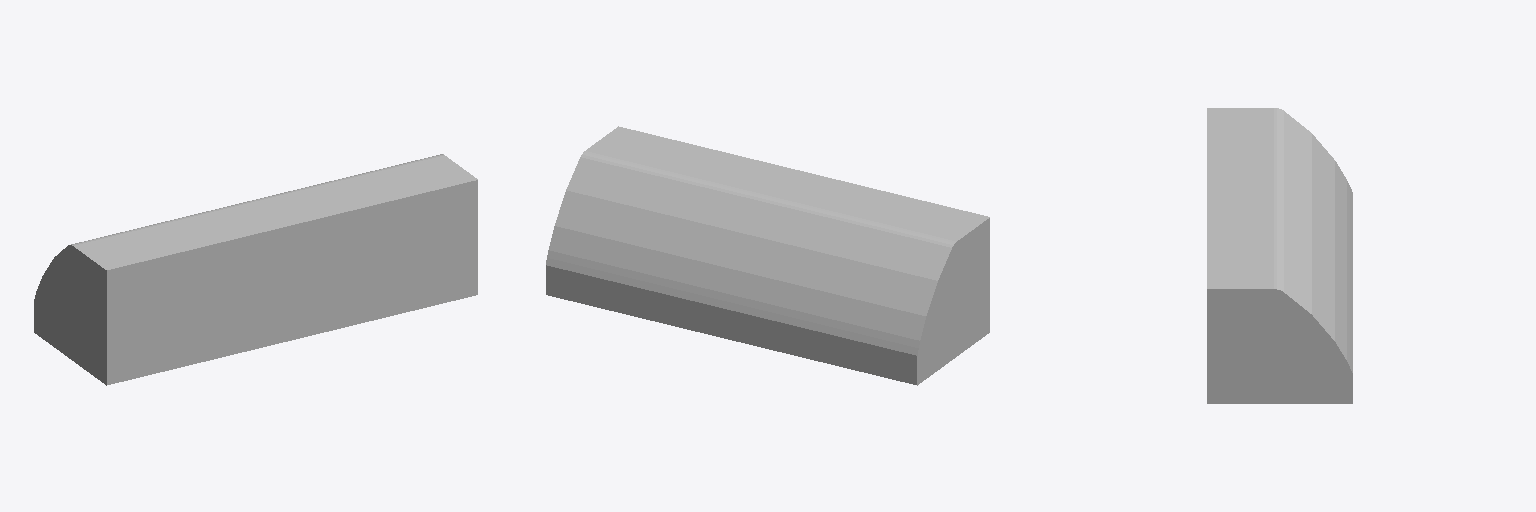
The model's file is original-46.obj.
The picture shows the model from 3 angles: view 1: azimuth 30°, elevation 25°; view 2: azimuth 150°, elevation 25°; view 3: azimuth 270°, elevation 25°; orthographic projection.
Visible parts, largest first — view 1: mesh373/mesh373-geometry#mesh373-geometry; view 2: mesh373/mesh373-geometry#mesh373-geometry; view 3: mesh373/mesh373-geometry#mesh373-geometry.
Boxes of the visible parts, x1,y1,x2,y2 form: mesh373/mesh373-geometry#mesh373-geometry: [34, 154, 477, 385]; mesh373/mesh373-geometry#mesh373-geometry: [546, 126, 989, 385]; mesh373/mesh373-geometry#mesh373-geometry: [1207, 108, 1352, 403].
Size of the model in its own units: 0.0868 by 0.0257 by 0.0295.